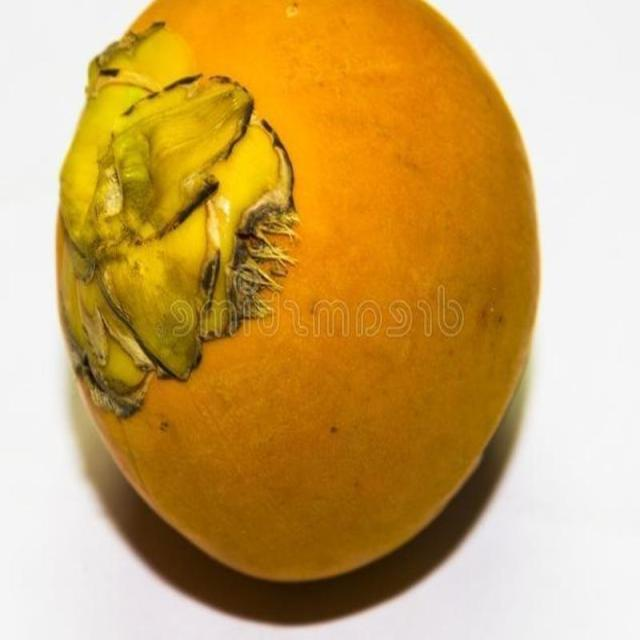good: (55, 0, 538, 588)
